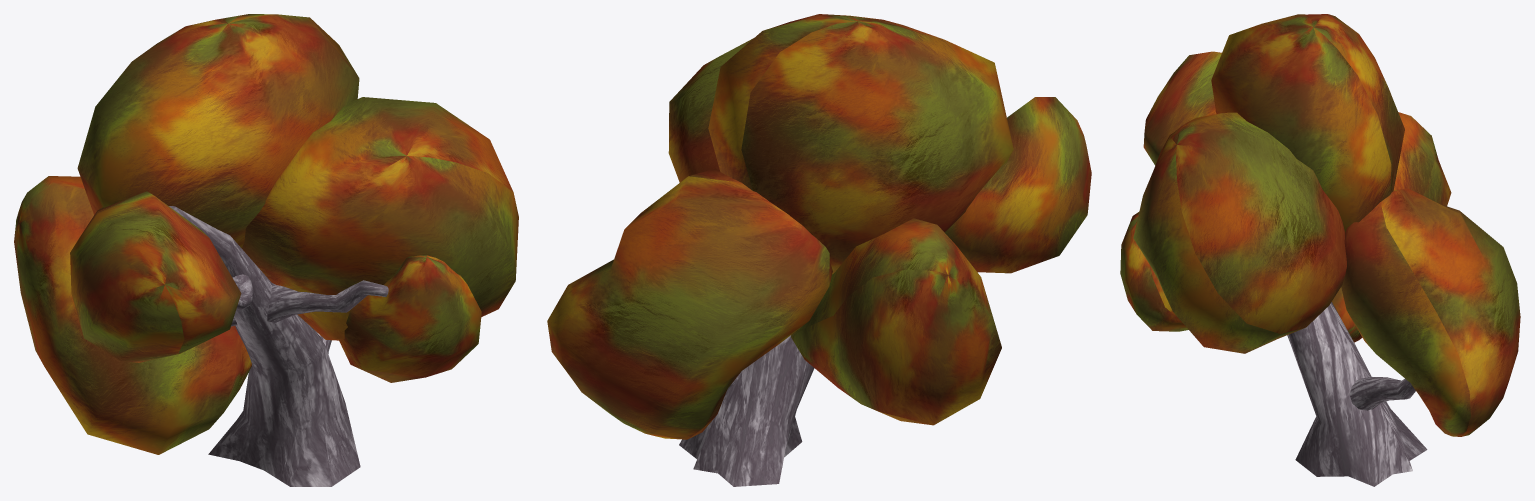
The model's file is github_cc0_garden_Tree03.glb.
The picture shows the model from 3 angles, left to right: view 1: azimuth 30°, elevation 25°; view 2: azimuth 150°, elevation 25°; view 3: azimuth 270°, elevation 25°; orthographic projection. The views are drawn at different scales.
Visible parts, largest first — view 1: Tree03; view 2: Tree03; view 3: Tree03.
Boxes of the visible parts, x1,y1,x2,y2 form: Tree03: (14,14,518,486); Tree03: (547,14,1091,486); Tree03: (1120,14,1520,486).
Bounding box in the file's own units: 5.88 × 6.07 × 5.57.
2 materials, 2 textured.
